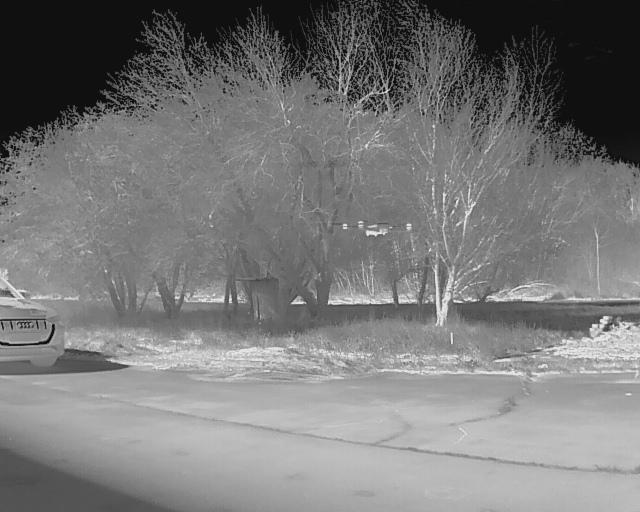drone: (319, 203, 424, 259)
